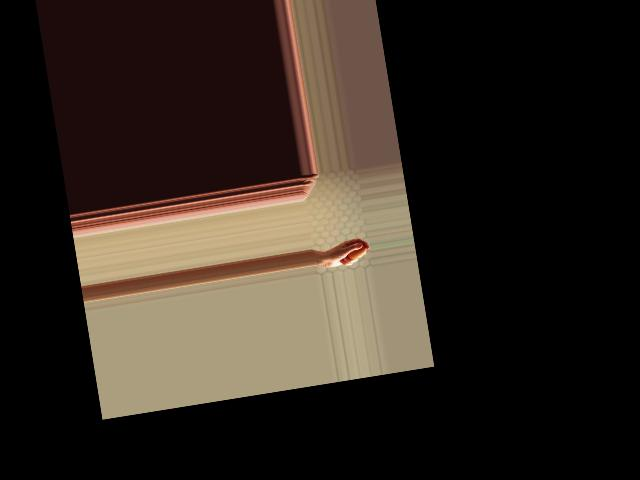egg: (345, 243, 367, 261)
